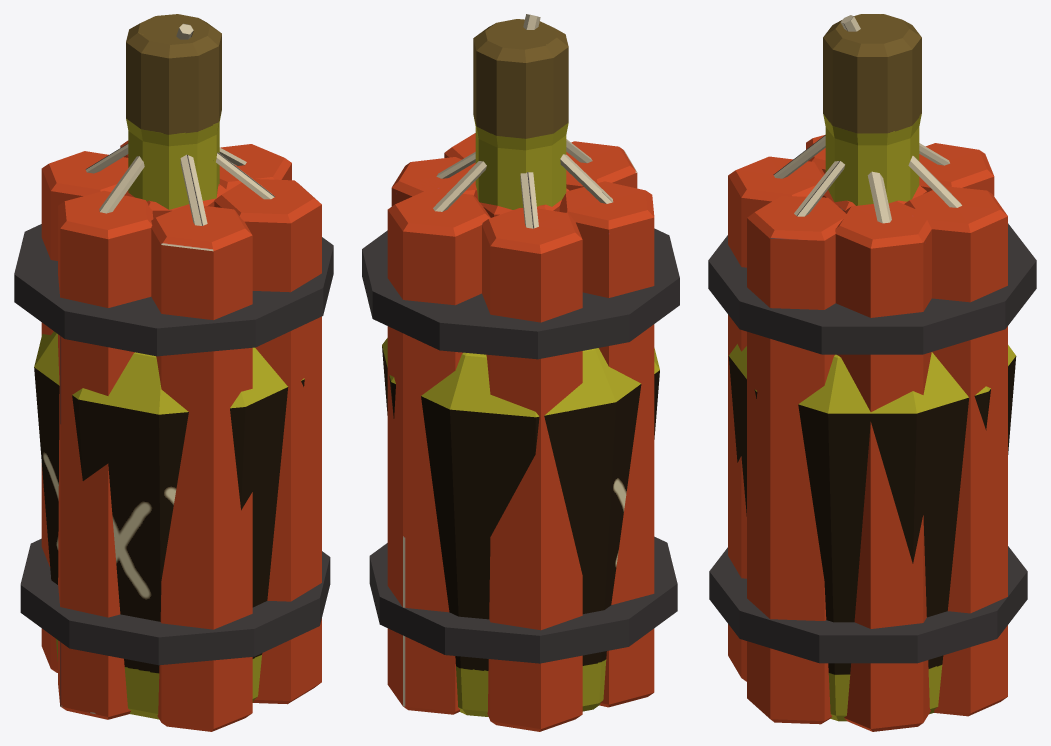
Rendered from Stuff2.fbx.
3 renders of one model, left to right at view 1: azimuth 30°, elevation 25°; view 2: azimuth 150°, elevation 25°; view 3: azimuth 270°, elevation 25°, orthographic.
Visible parts, largest first — view 1: Dynamite, Bottle; view 2: Dynamite, Bottle; view 3: Dynamite, Bottle.
Boxes of the visible parts, x1,y1,x2,y2 form: Dynamite: [14, 23, 333, 731]; Bottle: [34, 14, 304, 719]; Dynamite: [362, 14, 679, 731]; Bottle: [382, 19, 659, 716]; Dynamite: [708, 15, 1036, 731]; Bottle: [728, 14, 1016, 721].
Size of the model in its own units: 175 by 409 by 184.
Materials: 2 (2 with a texture image).
